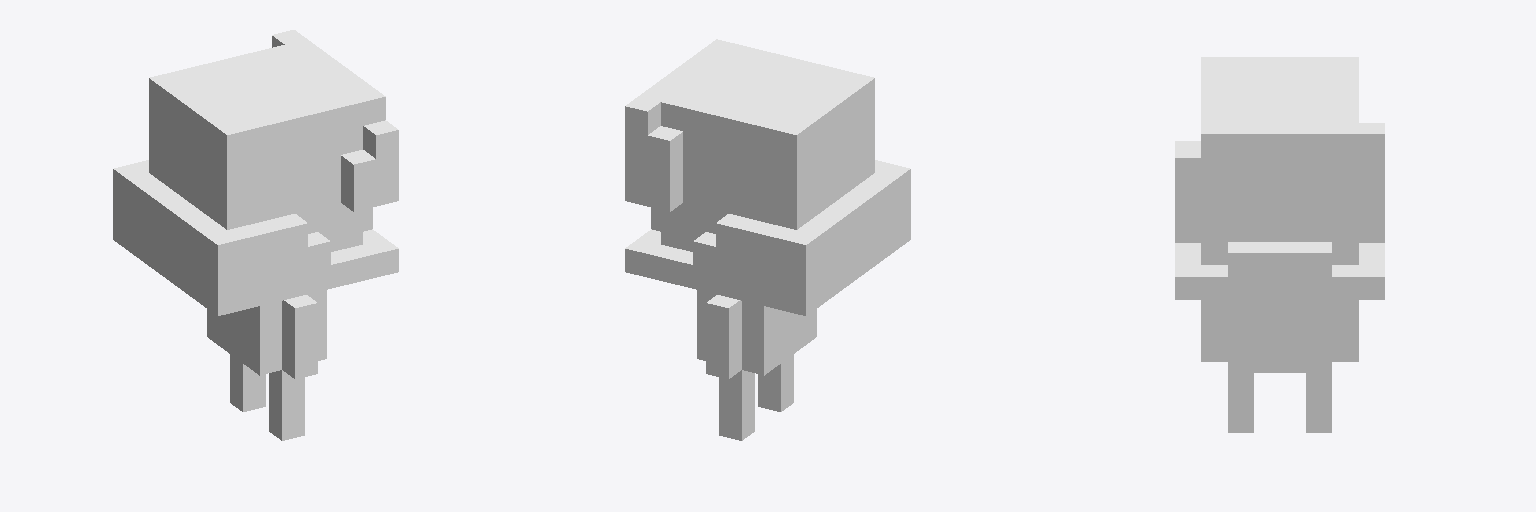
The model's file is Fosko.obj.
3 views of the same model, side by side, from view 1: azimuth 30°, elevation 25°; view 2: azimuth 150°, elevation 25°; view 3: azimuth 270°, elevation 25° (orthographic).
Visible parts, largest first — view 1: object 1; view 2: object 1; view 3: object 1.
Boxes of the visible parts, box(x1,y1,x2,y2) form: object 1: box(113, 30, 398, 440); object 1: box(625, 39, 910, 440); object 1: box(1175, 57, 1384, 432).
Bounding box in the file's own units: 0.8 × 1.4 × 0.8.